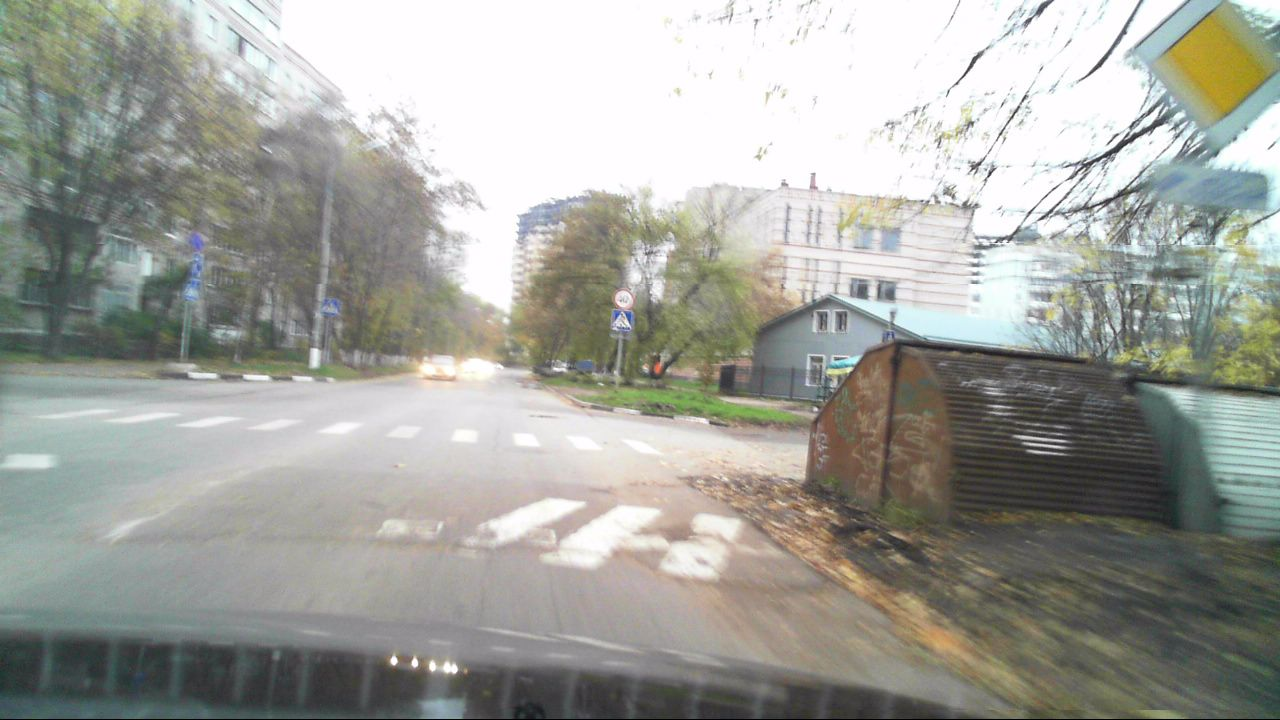speed_warning_40: (613, 289, 634, 309)
